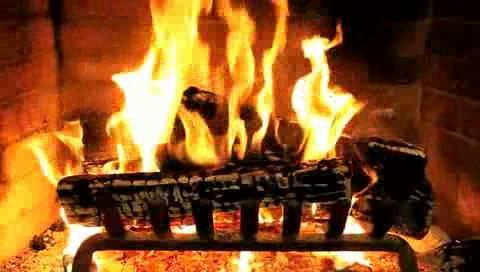fire: (19, 3, 480, 185)
